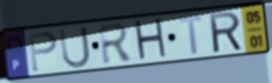H: (132, 16, 169, 64)
P: (27, 30, 59, 74)
R: (97, 22, 136, 67), (207, 9, 245, 55)
T: (178, 14, 204, 57)
U: (57, 24, 93, 70)
